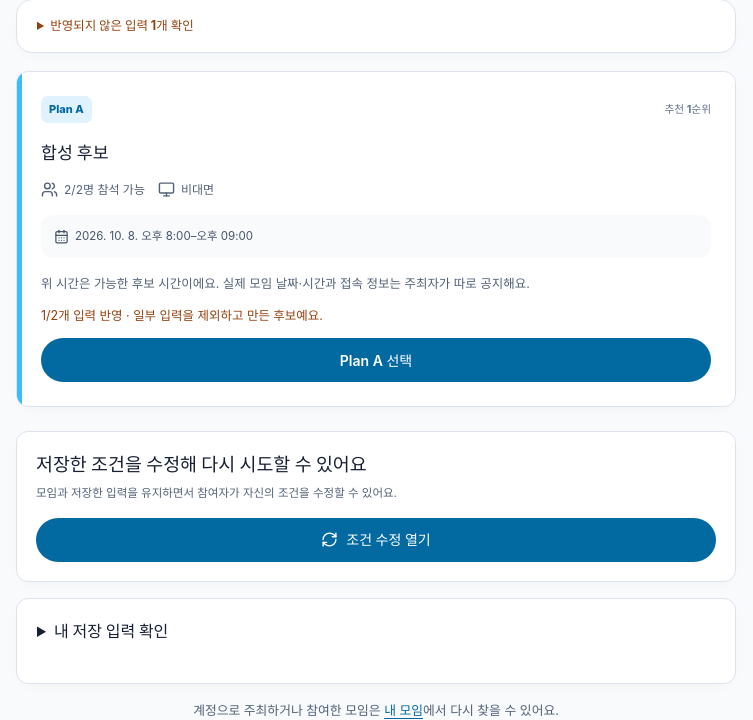
private read/confirmation authorization is a room-level boundary › refetches room state after a stale confirmation 409 without confirming an obsolete candidate again
The width and height of the screenshot is (753, 720).
(page scrolled)
Click the button "Plan A 선택" at [376, 360], box left=41, top=338, right=711, bottom=382
(page scrolled)
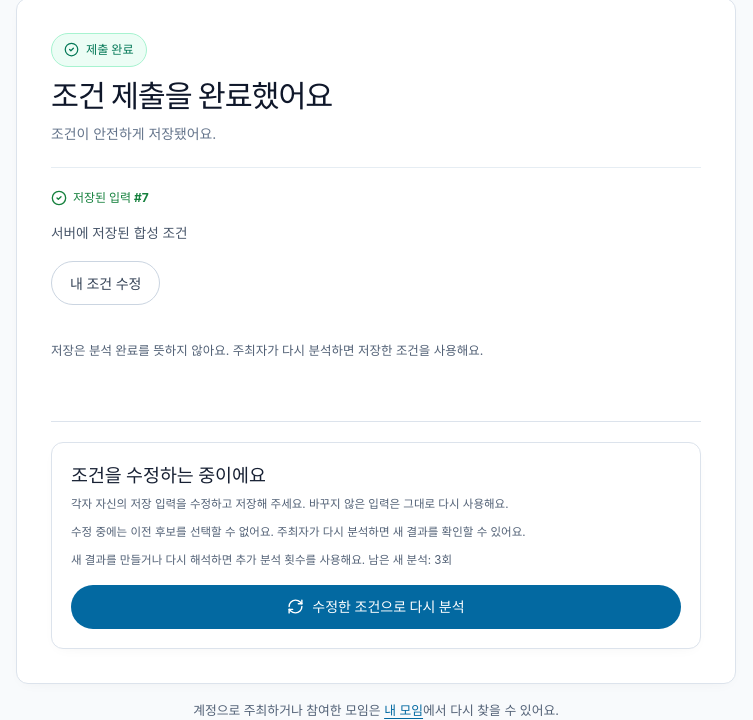
Expected: the button "수정한 조건으로 다시 분석" is shown, left=71, top=585, right=681, bottom=629
Expected: the button "Plan A 선택" is gone
